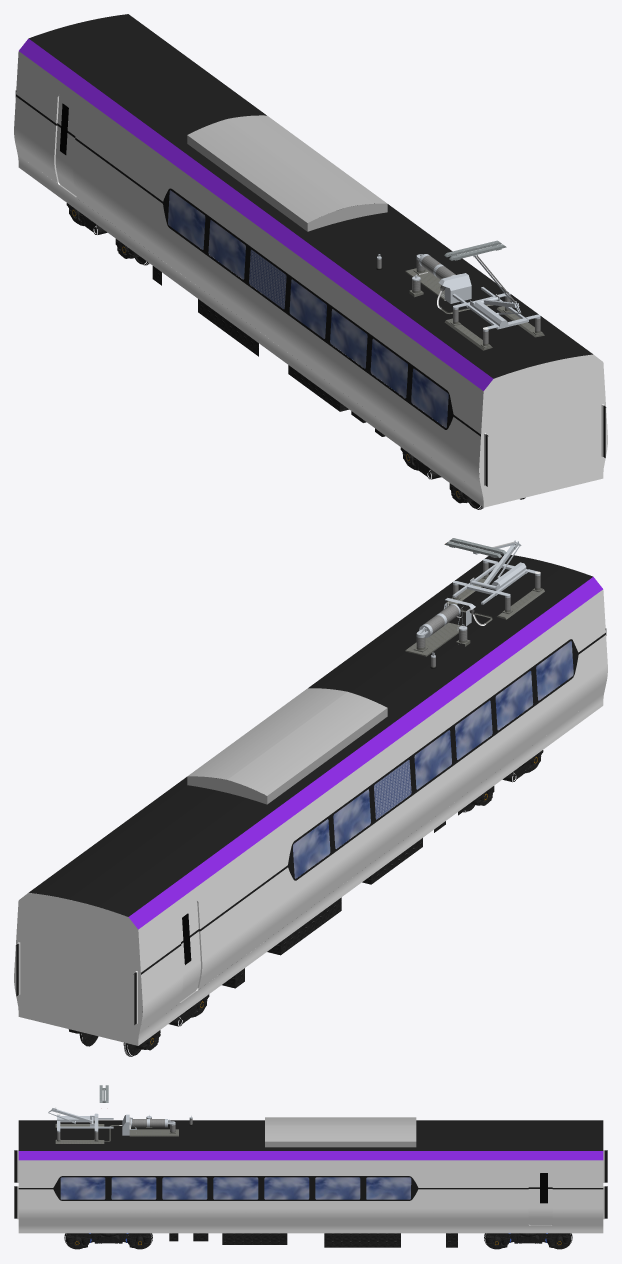
The model's file is JRE353-simple-car2.glb.
3 views of the same model, one above another, from view 1: azimuth 30°, elevation 25°; view 2: azimuth 150°, elevation 25°; view 3: azimuth 270°, elevation 25° (orthographic). The views are drawn at different scales.
Parts seen in each view (by area): view 1: skpFC3B; view 2: skpFC3B; view 3: skpFC3B.
Part boxes in pixels (x1,y1,x2,y2): skpFC3B: (14,14,607,509); skpFC3B: (14,538,607,1056); skpFC3B: (14,1085,607,1249).
Bounding box in the file's own units: 3.12 × 5.51 × 19.82.
20 materials, 11 textured.
